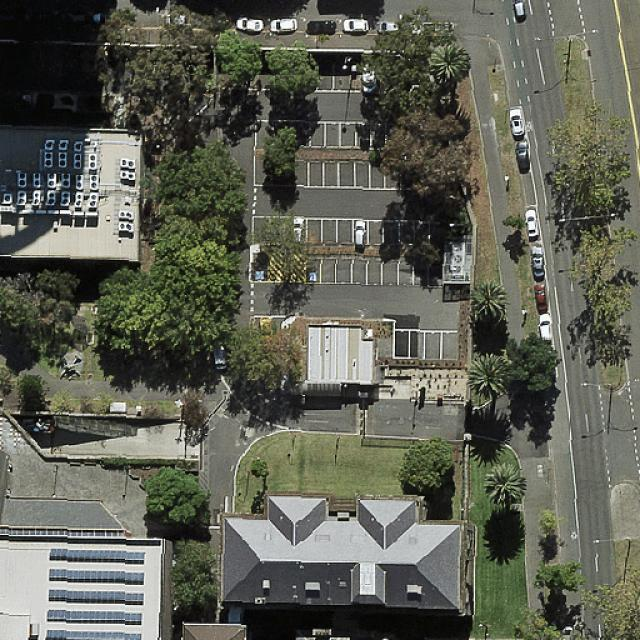Bike-Symbols: (526, 121, 533, 132)
